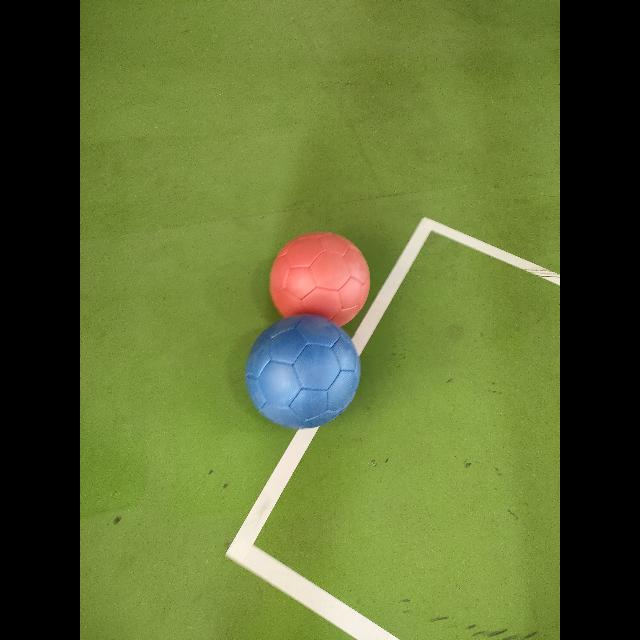B: (246, 314, 360, 428)
R: (270, 232, 370, 326)
